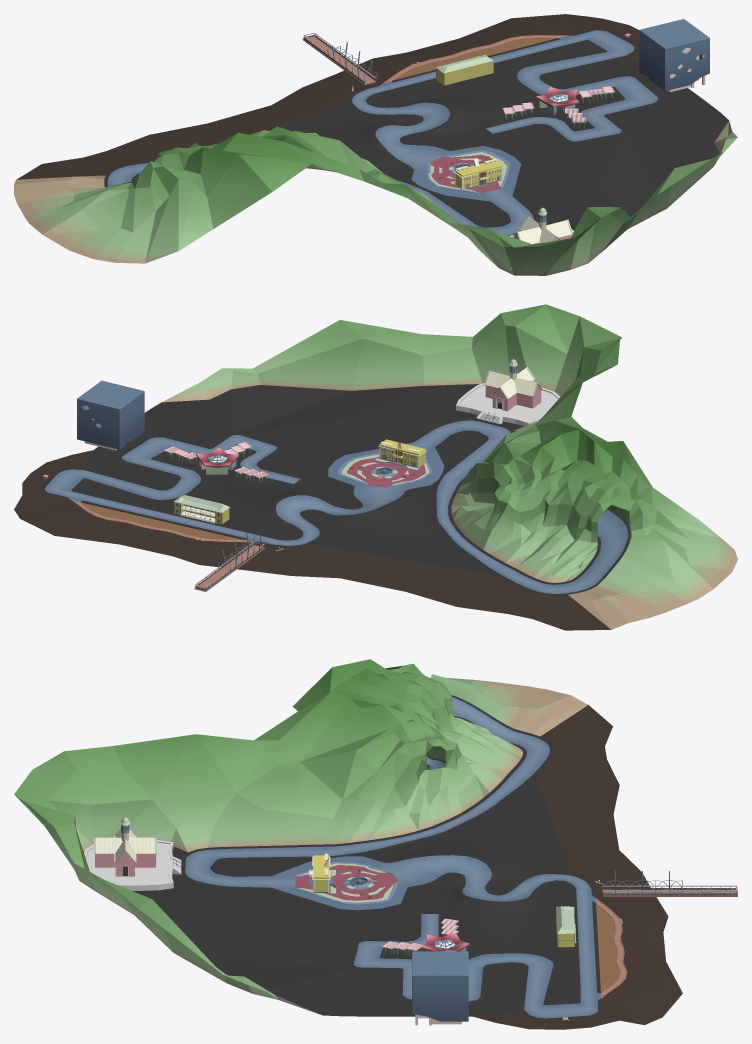
The model's file is TestScene_5.fbx.
3 views of the same model, one above another, from view 1: azimuth 30°, elevation 25°; view 2: azimuth 150°, elevation 25°; view 3: azimuth 270°, elevation 25° (orthographic). The views are drawn at different scales.
Parts seen in each view (by area): view 1: Trottoirs.003, Trottoirs.001, PisteFinale, Trottoirs, Plane.001, PisteFinale.004, Eglise.001, Vapiano.002, M.Mairie.LP.001, M.Debarcadere.FDM.003, M.Caillebotis.FDM.001, M.Caillebotis.FDM.002 (+3 smaller); view 2: Trottoirs.001, Trottoirs.003, PisteFinale, Trottoirs, Plane.001, PisteFinale.004, Plane.007, Eglise.001, Vapiano.002, Eglise.002, M.Mairie.LP.001, M.Debarcadere.FDM.003; view 3: Trottoirs.001, Trottoirs.003, PisteFinale, Trottoirs, Plane.001, PisteFinale.004, Plane.007, Eglise.001, Eglise.002, Vapiano.002, M.Debarcadere.FDM.003, M.Debarcadere.FDM (+1 smaller).
Part boxes in pixels (box(x1,y1,x2,y2)): Trottoirs.003: box(17, 14, 728, 230); Trottoirs.001: box(14, 121, 737, 275); PisteFinale: box(107, 30, 658, 235); Trottoirs: box(104, 29, 661, 235); Plane.001: box(639, 19, 709, 92); PisteFinale.004: box(429, 152, 506, 193); Eglise.001: box(513, 207, 572, 244); Vapiano.002: box(436, 55, 493, 85); M.Mairie.LP.001: box(454, 158, 504, 189); M.Debarcadere.FDM.003: box(302, 36, 375, 85); M.Caillebotis.FDM.001: box(383, 35, 567, 83); M.Caillebotis.FDM.002: box(383, 35, 567, 82); Trottoirs.001: box(162, 304, 737, 629); Trottoirs.003: box(14, 384, 610, 630); PisteFinale: box(44, 420, 628, 593); Trottoirs: box(41, 418, 631, 595); Plane.001: box(77, 380, 144, 450); PisteFinale.004: box(341, 454, 429, 487); Plane.007: box(459, 385, 558, 423); Eglise.001: box(484, 358, 542, 410); Vapiano.002: box(173, 495, 229, 524); Eglise.002: box(485, 380, 541, 411); M.Mairie.LP.001: box(378, 441, 426, 467); M.Debarcadere.FDM.003: box(194, 545, 265, 591); Trottoirs.001: box(14, 659, 587, 1014); Trottoirs.003: box(83, 705, 682, 1029); PisteFinale: box(185, 697, 598, 1018); Trottoirs: box(181, 695, 619, 1019); Plane.001: box(412, 951, 468, 1025); PisteFinale.004: box(295, 863, 398, 902); Plane.007: box(86, 842, 181, 883); Eglise.001: box(93, 816, 156, 865); Eglise.002: box(95, 852, 155, 876); Vapiano.002: box(556, 906, 576, 947); M.Debarcadere.FDM.003: box(603, 889, 737, 896); M.Debarcadere.FDM: box(603, 888, 737, 895).
Size of the model in its own units: 55142 by 7573 by 48076.
